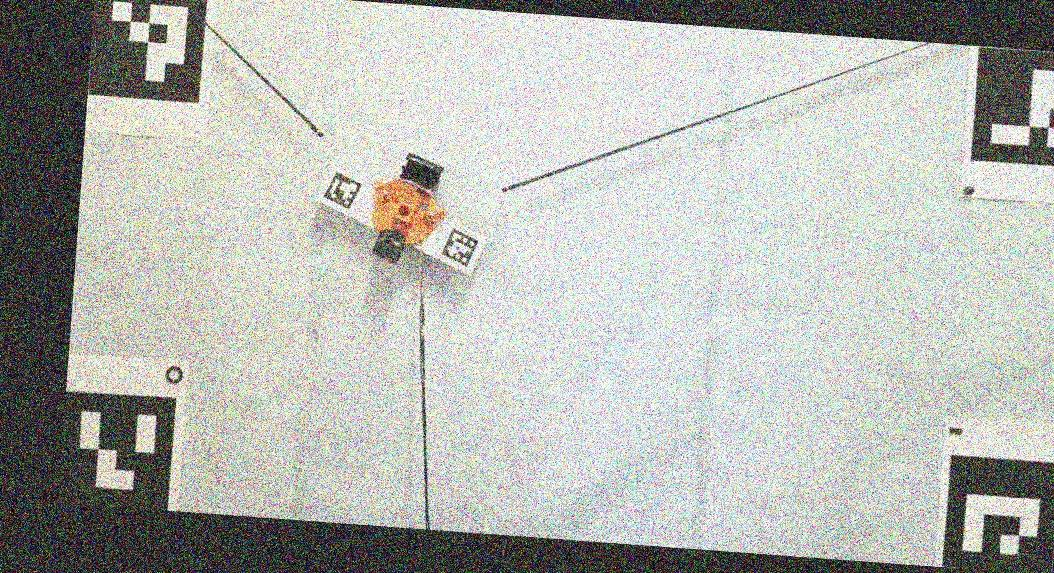robot: (373, 152, 447, 263)
